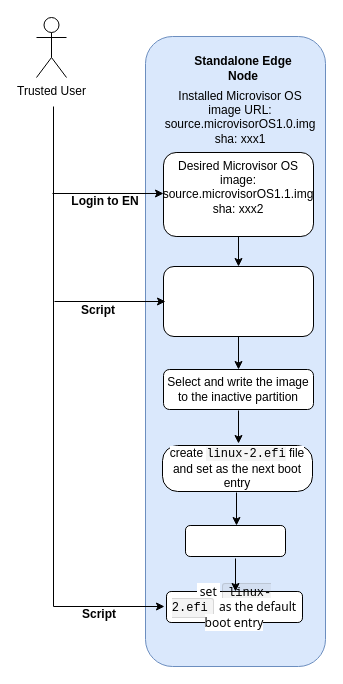
This 343x684 diagram has some shape labels left out. The shapes that lost their labels are listed below. From the top down, each one's centre as x and y in pixels, then its label:
[238,301]: Download the desired OS image from the URL or copy it from a USB drive.
[235,540]: Reboot
